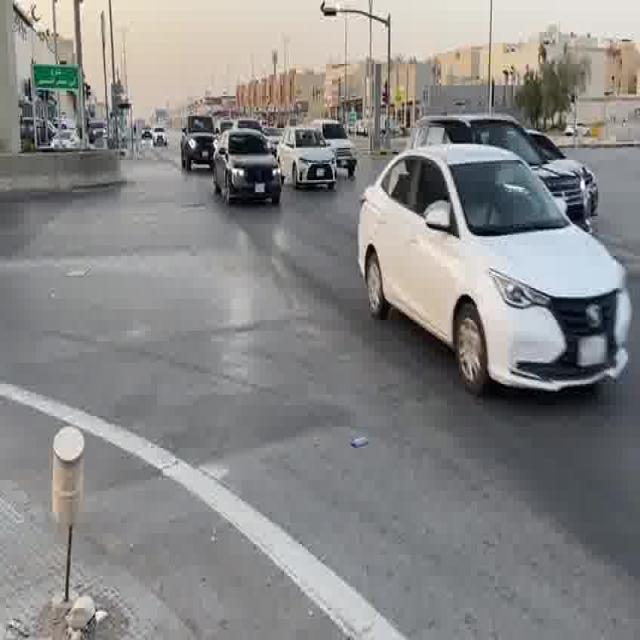bus: (351, 134, 637, 398), (412, 115, 598, 221), (214, 131, 283, 206), (279, 130, 336, 189), (318, 123, 358, 168), (180, 131, 216, 172)
car: (179, 209, 640, 640), (351, 134, 637, 398), (412, 115, 598, 221), (214, 131, 283, 206), (279, 130, 336, 189), (318, 123, 358, 168), (180, 131, 216, 172)
lanes: (179, 209, 640, 640), (226, 209, 639, 634)
lanes2: (226, 209, 639, 634), (260, 205, 640, 474)
lanes3: (260, 205, 640, 474), (286, 201, 640, 404)
lanes4: (286, 201, 640, 404), (327, 192, 640, 313)
lanes5: (327, 192, 640, 313)
